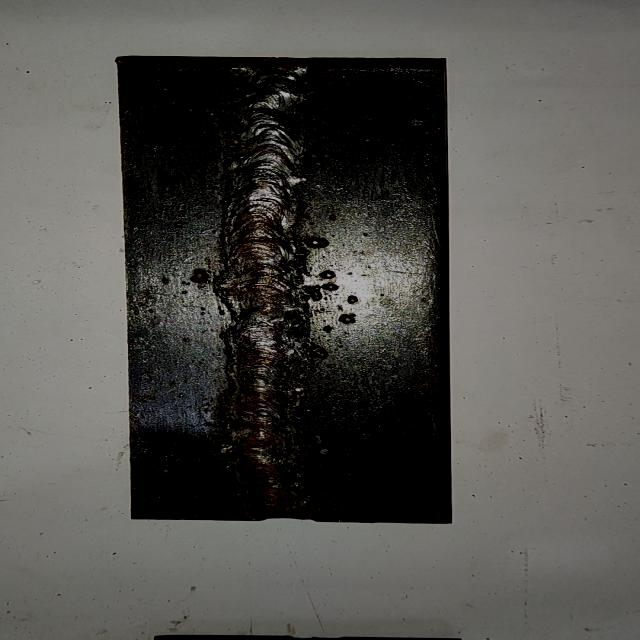Good Weld: (224, 63, 319, 514)
